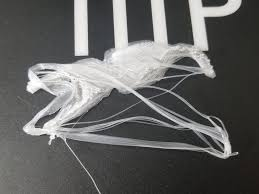fail: (20, 57, 241, 192)
